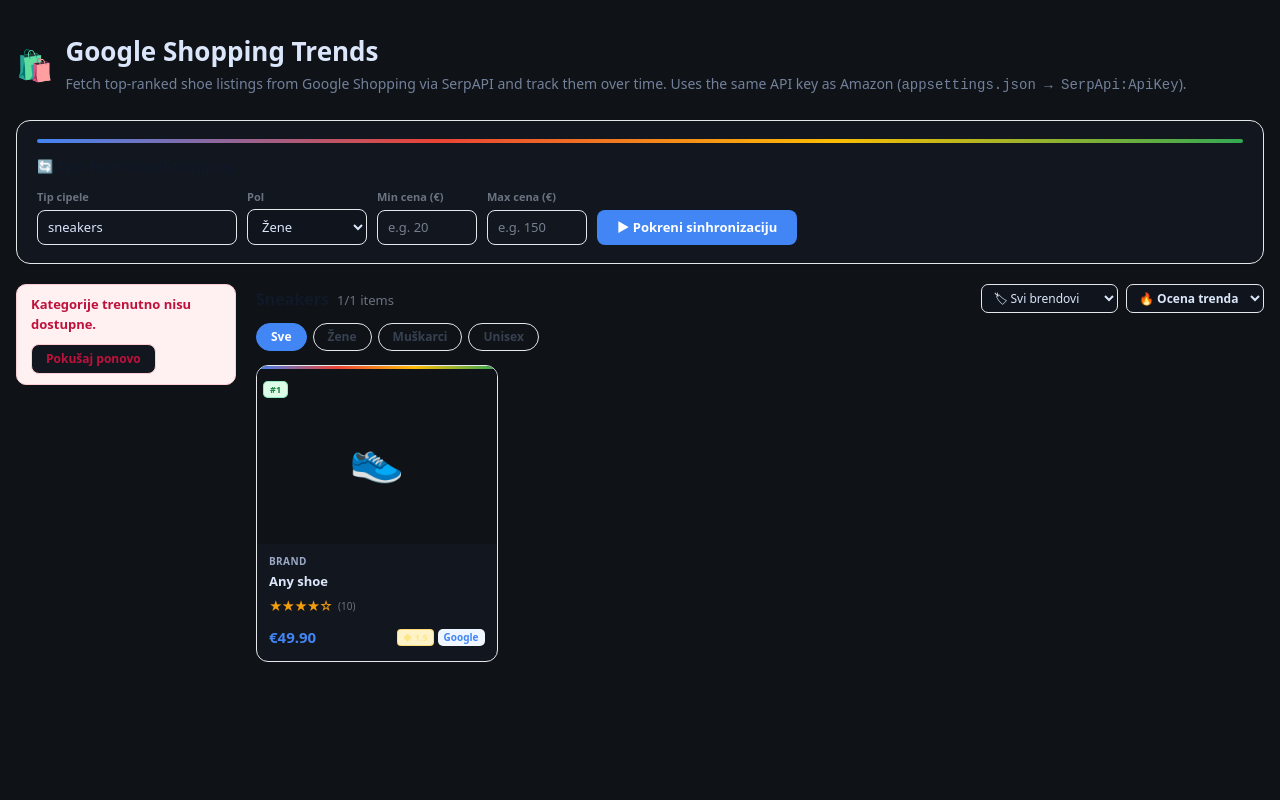
Test: Google Shopping trends page loader errors (RQ655) › shows a category load failure with a retry action
expect the message shows "Kategorije trenutno nisu dostupne": met, box [31, 295, 191, 332]
Click the button "Pokušaj ponovo" at [93, 359], box [31, 344, 156, 374]
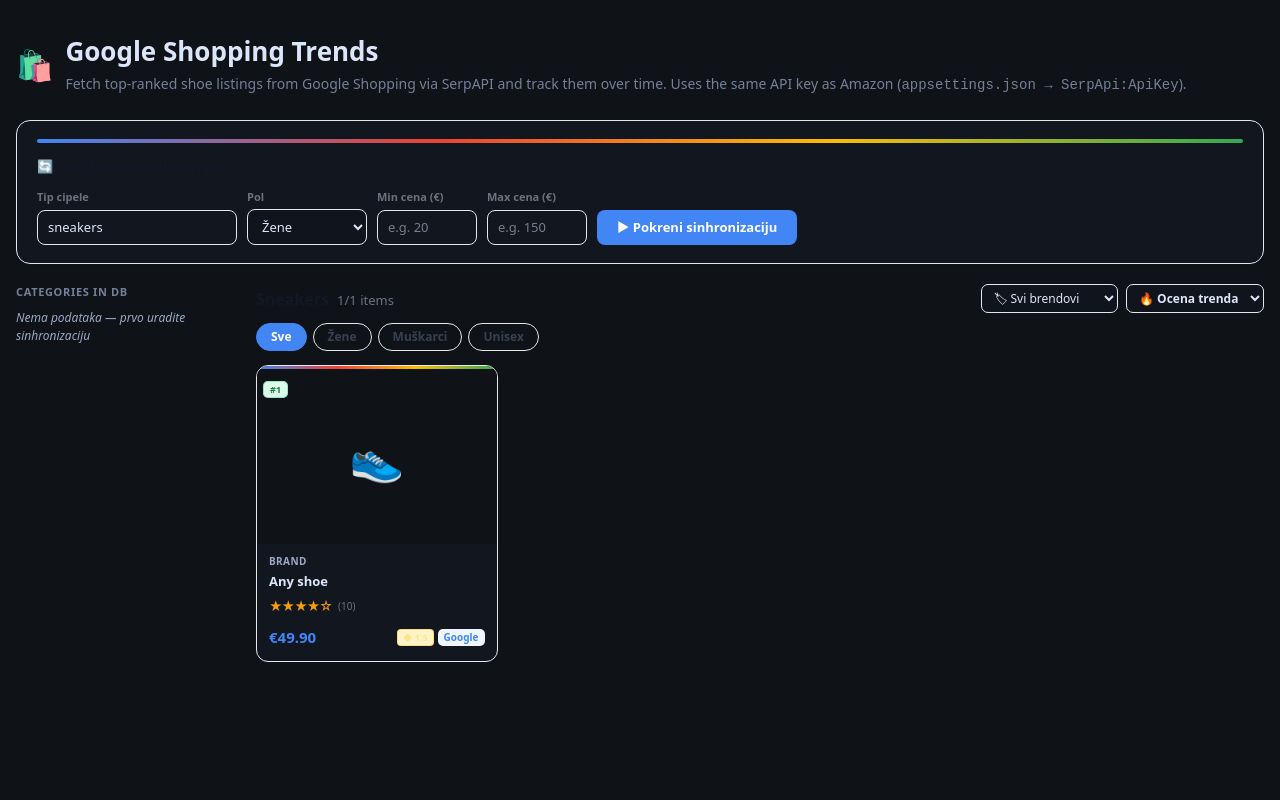
expect the message "Kategorije trenutno nisu dostupne. Pokušaj ponovo" is gone: met
